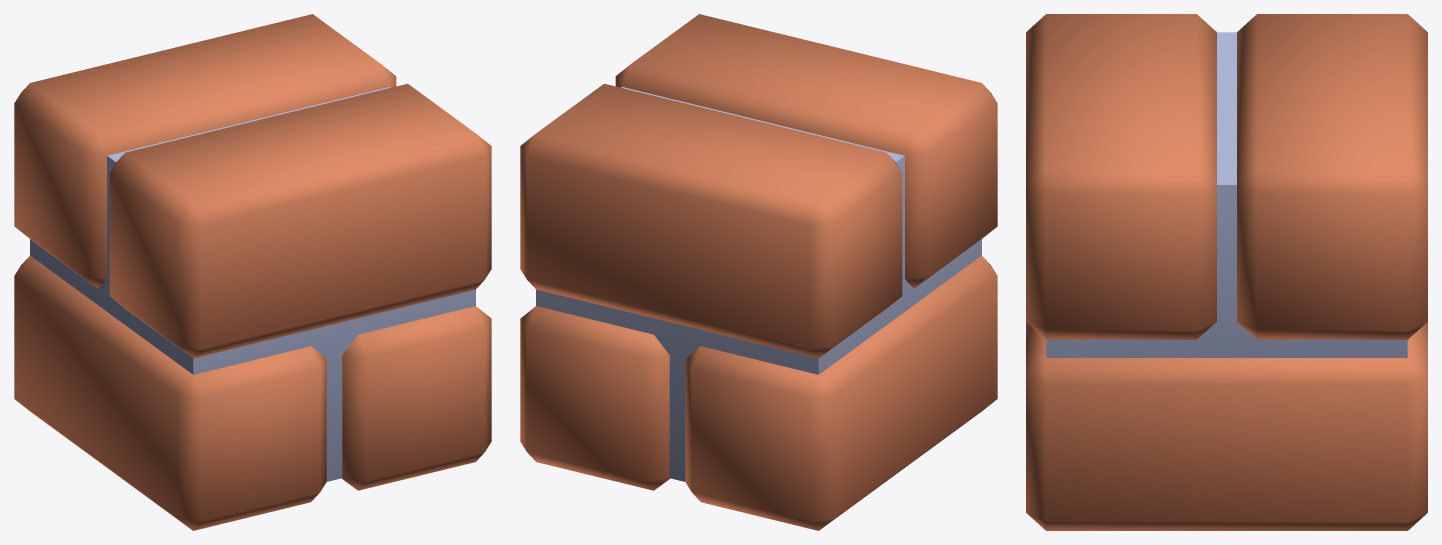
File: brick.glb
The picture shows the model from 3 angles, left to right: view 1: azimuth 30°, elevation 25°; view 2: azimuth 150°, elevation 25°; view 3: azimuth 270°, elevation 25°; orthographic projection. The views are drawn at different scales.
Parts seen in each view (by area): view 1: brick; view 2: brick; view 3: brick.
Boxes of the visible parts, box(x1,y1,x2,y2) form: brick: box(14, 14, 491, 530); brick: box(520, 14, 997, 530); brick: box(1026, 14, 1427, 530).
Size of the model in its own units: 0.5 by 0.5 by 0.5.
1 material, 1 textured.
